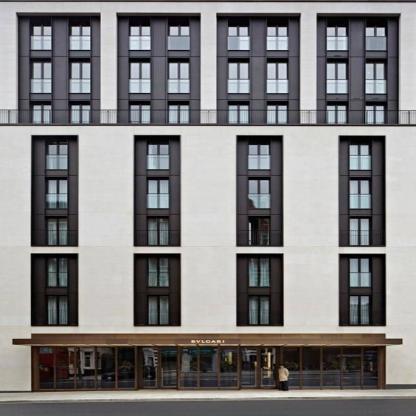Balcony: (0, 110, 416, 126), (340, 230, 387, 247), (31, 230, 78, 247), (134, 230, 181, 247), (236, 230, 283, 247), (339, 310, 386, 326), (31, 310, 78, 326), (134, 310, 181, 326), (237, 310, 283, 326)
Building Outline: (0, 0, 416, 393)
Door: (241, 347, 278, 390), (140, 347, 177, 389)
Facade: (0, 1, 416, 393)
Floor Slab: (0, 127, 416, 135), (0, 326, 416, 334), (0, 287, 416, 294), (0, 93, 416, 99), (0, 247, 416, 253), (0, 170, 416, 176), (0, 209, 416, 215), (0, 51, 416, 56)
Glass Wall: (282, 347, 378, 390), (38, 348, 136, 388), (179, 347, 238, 389), (349, 177, 372, 209), (147, 177, 170, 209), (248, 177, 271, 209), (45, 177, 68, 209), (349, 256, 372, 287), (45, 256, 68, 287), (148, 256, 171, 287), (248, 256, 271, 287), (349, 295, 372, 325), (45, 216, 68, 246), (350, 216, 373, 246), (147, 216, 170, 246), (248, 216, 271, 246), (45, 295, 68, 325), (148, 295, 171, 325), (248, 295, 271, 325), (365, 19, 386, 51), (31, 19, 52, 51), (69, 19, 90, 51), (168, 19, 189, 51), (267, 19, 288, 51), (31, 62, 52, 94), (69, 62, 90, 94), (168, 62, 189, 94), (267, 62, 288, 94), (350, 140, 372, 170), (46, 139, 68, 169), (148, 139, 170, 169), (248, 139, 270, 169), (31, 104, 52, 135), (69, 104, 90, 135), (168, 104, 189, 135), (267, 104, 288, 135), (365, 62, 386, 93), (130, 19, 150, 51), (228, 19, 248, 51), (327, 19, 347, 51), (130, 62, 150, 94), (228, 62, 248, 94), (365, 105, 386, 135), (130, 104, 150, 135), (228, 104, 248, 135), (327, 62, 347, 93), (327, 105, 347, 135)
Shop: (190, 340, 225, 343)
Window: (340, 135, 387, 247), (31, 135, 78, 247), (135, 135, 182, 247), (236, 135, 283, 247), (31, 253, 79, 326), (134, 253, 182, 326), (340, 253, 387, 326), (237, 253, 283, 326)
